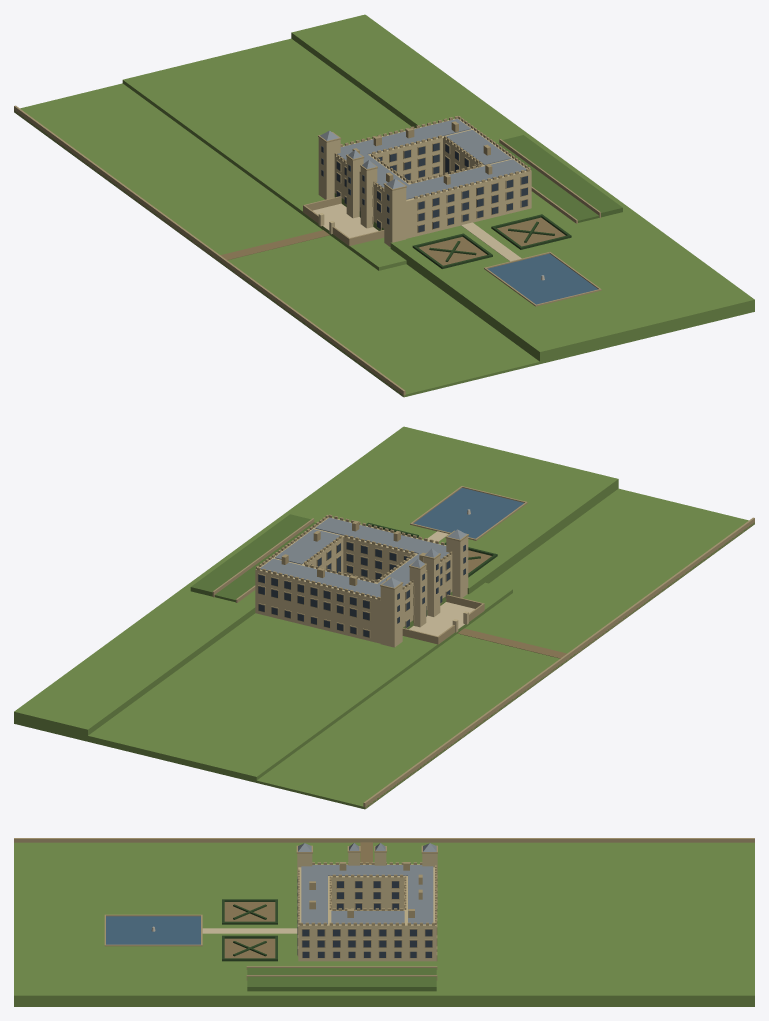
The model's file is chatsworth-b20.glb.
3 views of the same model, one above another, from view 1: azimuth 30°, elevation 25°; view 2: azimuth 150°, elevation 25°; view 3: azimuth 270°, elevation 25° (orthographic). The views are drawn at different scales.
Size of the model in its own units: 15.2 by 2.96 by 29.2.
